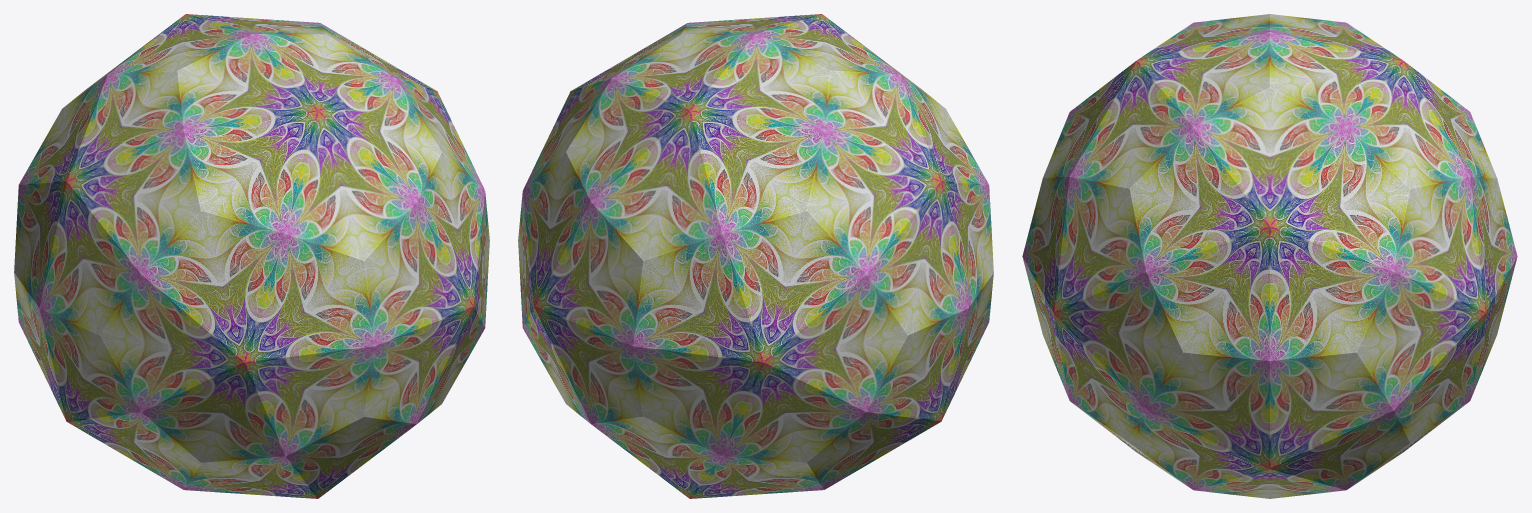
File: DeltoidalHexecontahedron6.obj
3 views of the same model, side by side, from view 1: azimuth 30°, elevation 25°; view 2: azimuth 150°, elevation 25°; view 3: azimuth 270°, elevation 25° (orthographic).
Size of the model in its own units: 4.47 by 4.47 by 4.47.
Materials: 1 (1 with a texture image).
